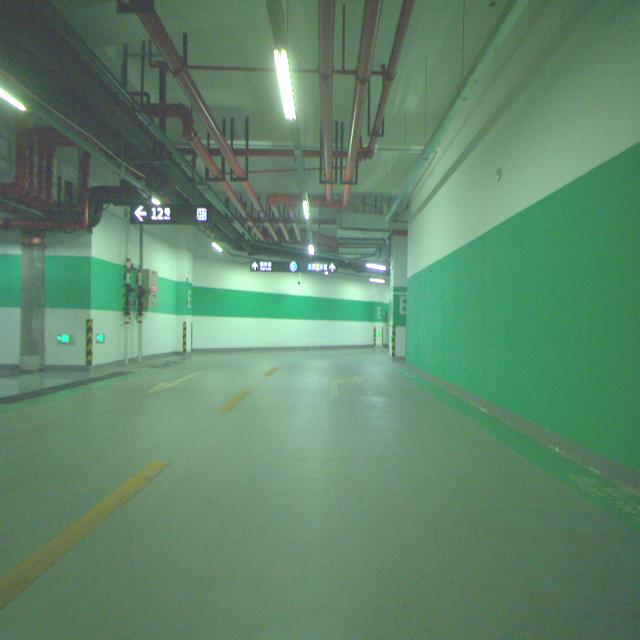wall: (174, 234, 193, 361)
